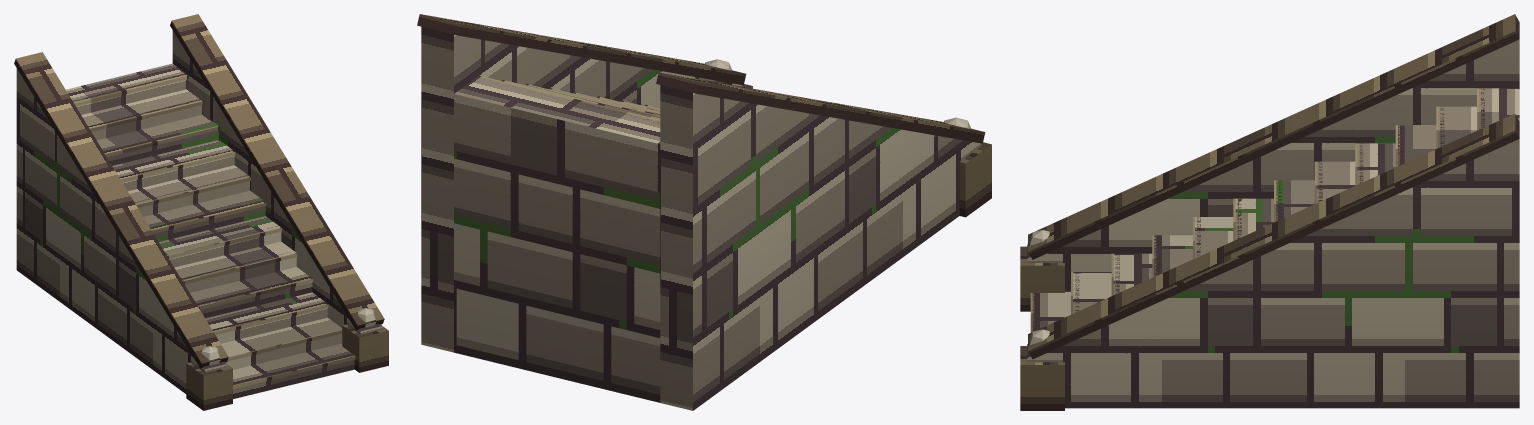
The model's file is scene_stair_terrace.glb.
3 views of the same model, side by side, from view 1: azimuth 30°, elevation 25°; view 2: azimuth 150°, elevation 25°; view 3: azimuth 270°, elevation 25° (orthographic). The views are drawn at different scales.
Parts seen in each view (by area): view 1: scene_stair_terrace; view 2: scene_stair_terrace; view 3: scene_stair_terrace.
Boxes of the visible parts, bbox=[...] form: scene_stair_terrace: bbox=[14, 14, 388, 410]; scene_stair_terrace: bbox=[417, 14, 991, 410]; scene_stair_terrace: bbox=[1020, 14, 1519, 410].
Bounding box in the file's own units: 2.76 × 3.04 × 4.92.
2 materials, 1 textured.
